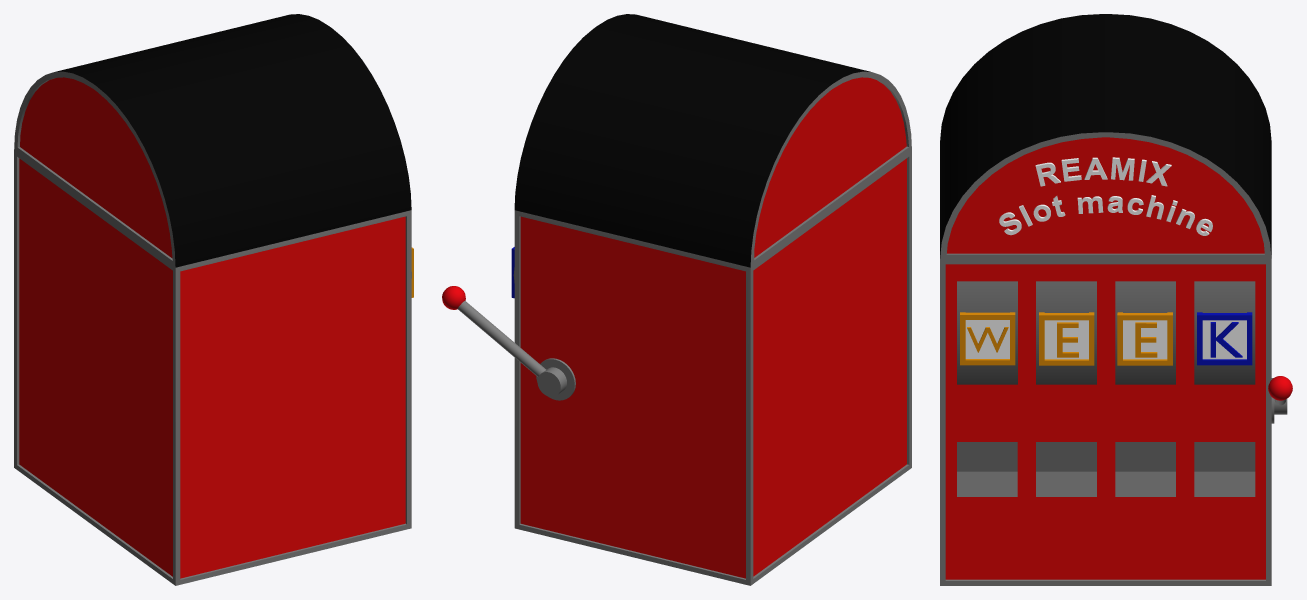
The model's file is LAMACHINEDECLEMENTQUEERICAREFAIT.fbx.
3 renders of one model, left to right at view 1: azimuth 30°, elevation 25°; view 2: azimuth 150°, elevation 25°; view 3: azimuth 270°, elevation 25°, orthographic. The views are drawn at different scales.
Parts seen in each view (by area): view 1: Cube.006; view 2: Cube.006, Cylinder.002, Cylinder.001, Cylinder; view 3: Cube.006, Roue4ndLetter, Roue1stLetter, Roue2ndLetter, Roue3ndLetter, Text.003, Text, Text.020, Text.033, Text.023, Text.024, Sphere.
Part boxes in pixels (box(x1,y1,x2,y2)): Cube.006: box(14, 14, 411, 585); Cube.006: box(514, 14, 911, 585); Cylinder.002: box(457, 301, 546, 376); Cylinder.001: box(537, 367, 566, 396); Cylinder: box(536, 358, 575, 400); Cube.006: box(940, 14, 1271, 585); Roue4ndLetter: box(1194, 281, 1255, 384); Roue1stLetter: box(957, 281, 1017, 384); Roue2ndLetter: box(1036, 281, 1096, 384); Roue3ndLetter: box(1115, 281, 1175, 384); Text.003: box(960, 312, 1015, 365); Text: box(1039, 312, 1094, 365); Text.020: box(1117, 312, 1172, 365); Text.033: box(1197, 312, 1252, 365); Text.023: box(999, 195, 1212, 235); Text.024: box(1035, 157, 1171, 186); Sphere: box(1268, 376, 1292, 400).
Bounding box in the file's own units: 1297 × 1809 × 1274.
